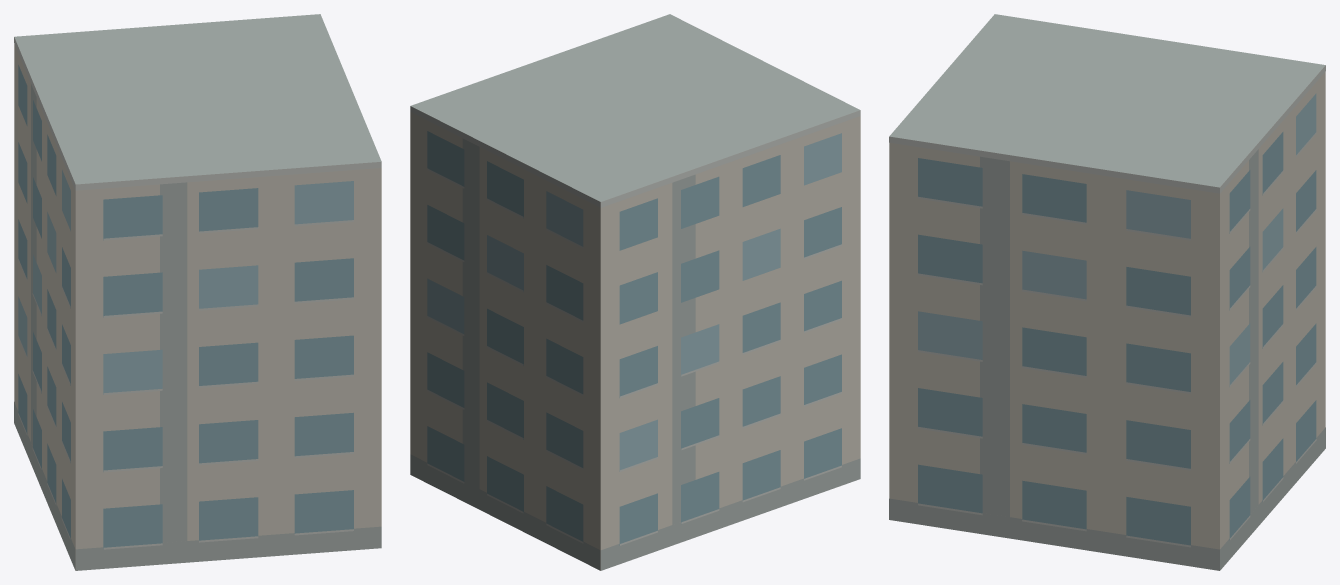
Rendered from residential-e413e648-d051-4f42-8421-1f866c307f90.glb.
3 renders of one model, left to right at view 1: azimuth 30°, elevation 25°; view 2: azimuth 150°, elevation 25°; view 3: azimuth 270°, elevation 25°, orthographic. The views are drawn at different scales.
Parts seen in each view (by area): view 1: residential-e413e648-d051-4f42-8421-1f866c307f90.tmp; view 2: residential-e413e648-d051-4f42-8421-1f866c307f90.tmp; view 3: residential-e413e648-d051-4f42-8421-1f866c307f90.tmp.
Boxes of the visible parts, x1,y1,x2,y2 form: residential-e413e648-d051-4f42-8421-1f866c307f90.tmp: [14, 14, 381, 570]; residential-e413e648-d051-4f42-8421-1f866c307f90.tmp: [410, 14, 860, 570]; residential-e413e648-d051-4f42-8421-1f866c307f90.tmp: [889, 14, 1325, 570].
Size of the model in its own units: 14.81 by 15.25 by 15.75.
